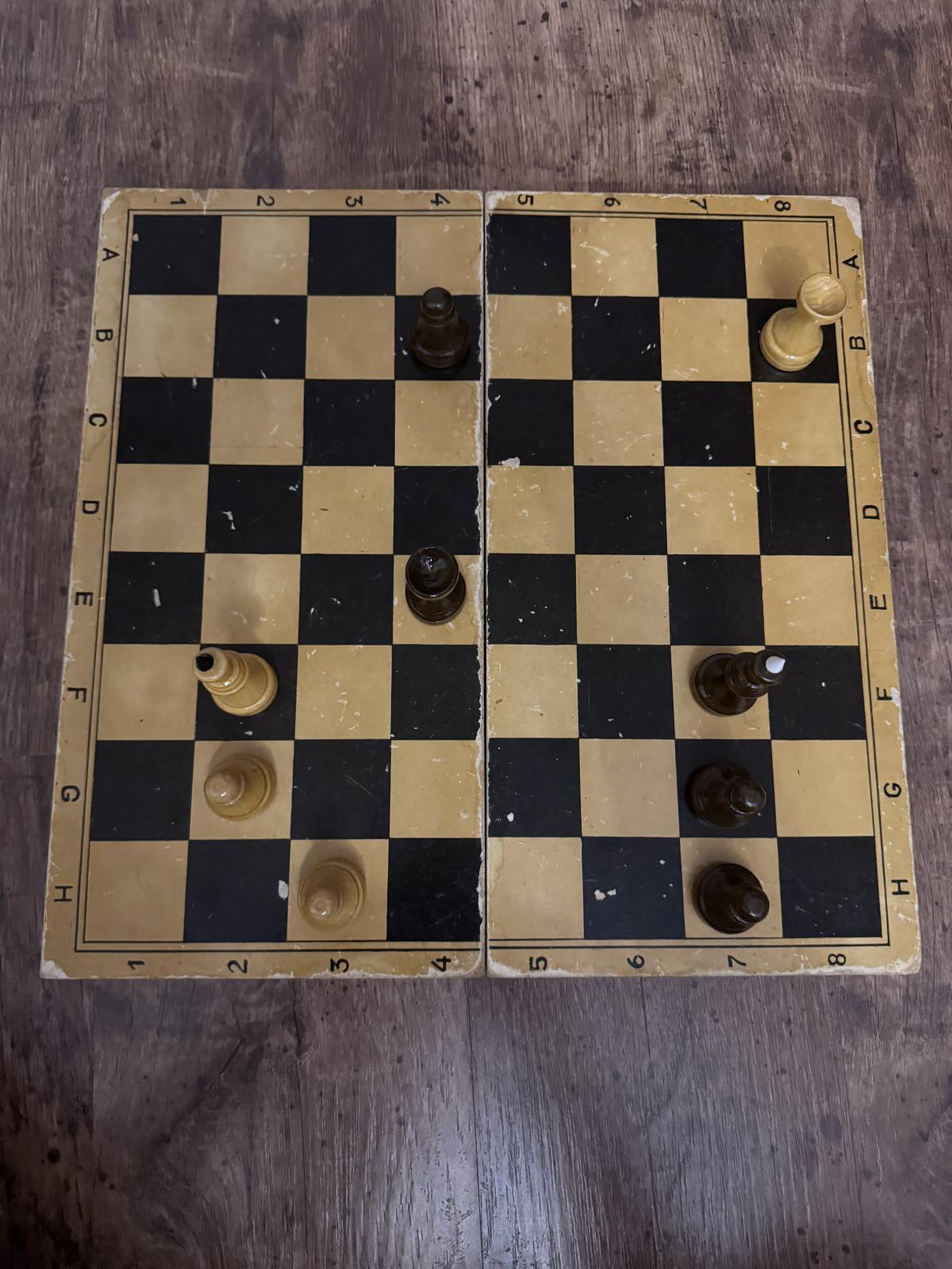Chess-Board: (84, 216, 881, 942)
